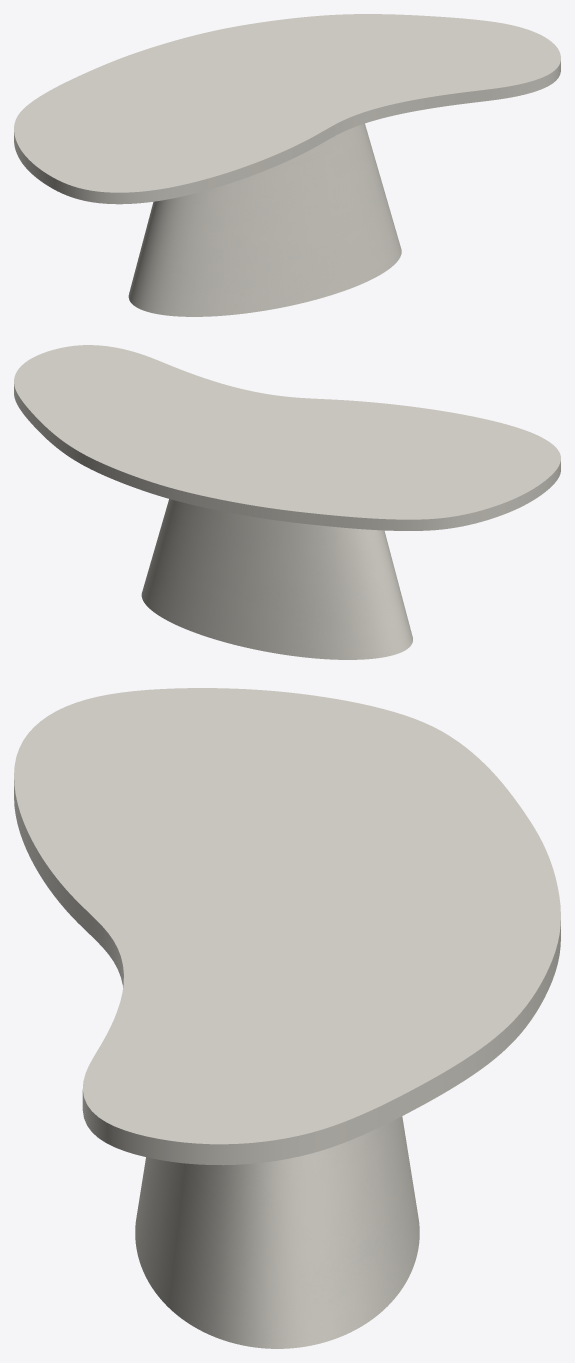
File: pale_leaf1_standard_eqone.glb
3 renders of one model, top to bottom at view 1: azimuth 30°, elevation 25°; view 2: azimuth 150°, elevation 25°; view 3: azimuth 270°, elevation 25°, orthographic. The views are drawn at different scales.
Parts seen in each view (by area): view 1: standard_leaf1, eqone; view 2: standard_leaf1, eqone; view 3: standard_leaf1, eqone.
Boxes of the visible parts, x1,y1,x2,y2 form: standard_leaf1: [14, 14, 560, 204]; eqone: [128, 123, 401, 316]; standard_leaf1: [14, 345, 560, 530]; eqone: [141, 499, 412, 659]; standard_leaf1: [14, 688, 560, 1165]; eqone: [135, 1116, 419, 1348].
Bounding box in the file's own units: 7.5 × 2.51 × 3.8.
1 material, 1 textured.
